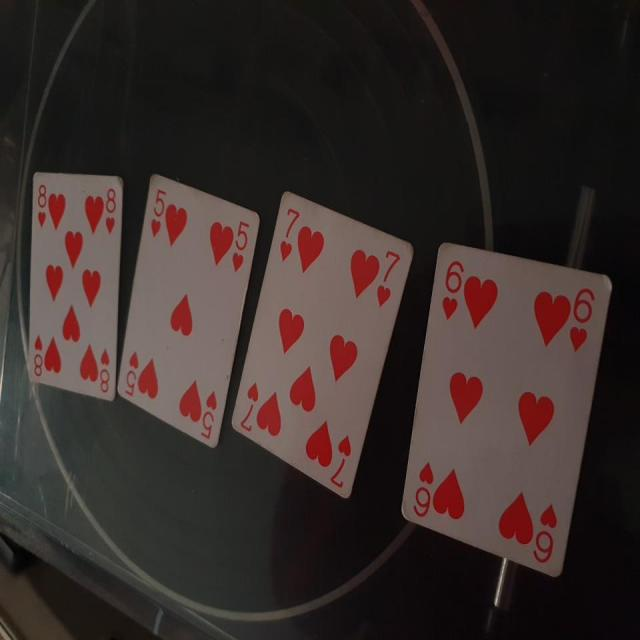5 Hearts: (120, 151, 262, 448)
6 Hearts: (399, 226, 614, 581)
7 Hearts: (230, 185, 415, 505)
8 Hearts: (24, 164, 124, 408)
